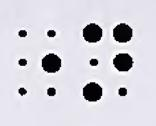dot_5: (18, 29, 61, 96)
noon: (83, 22, 133, 102)
